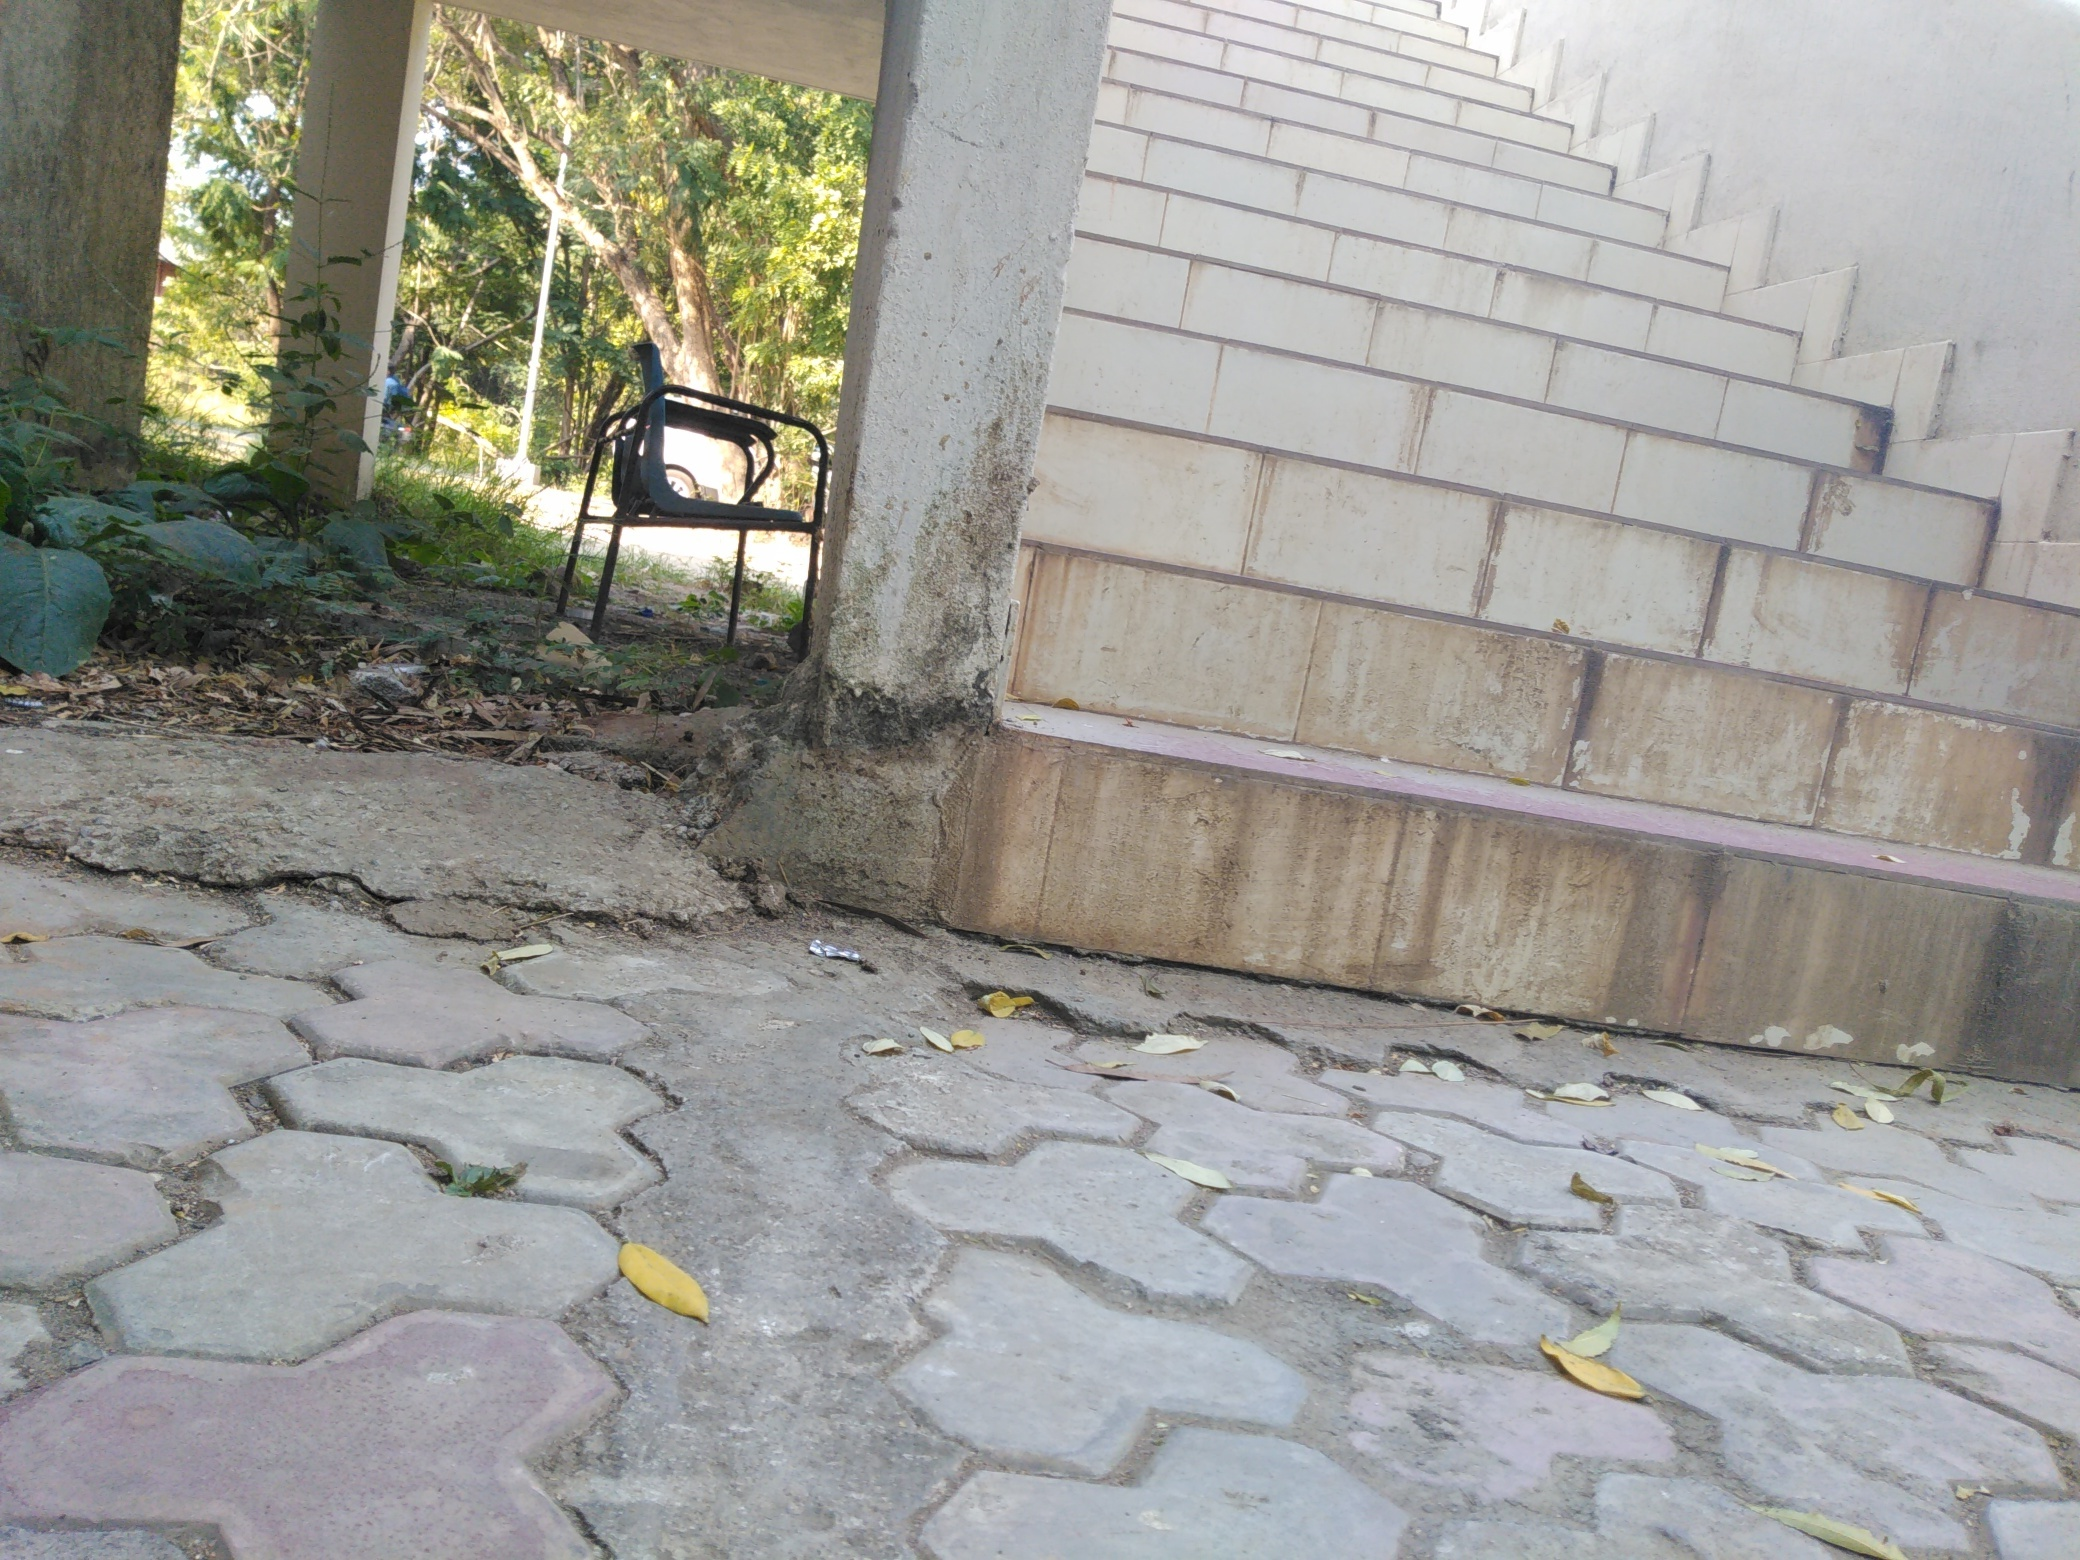stairs_up: (1011, 26, 2077, 1100)
